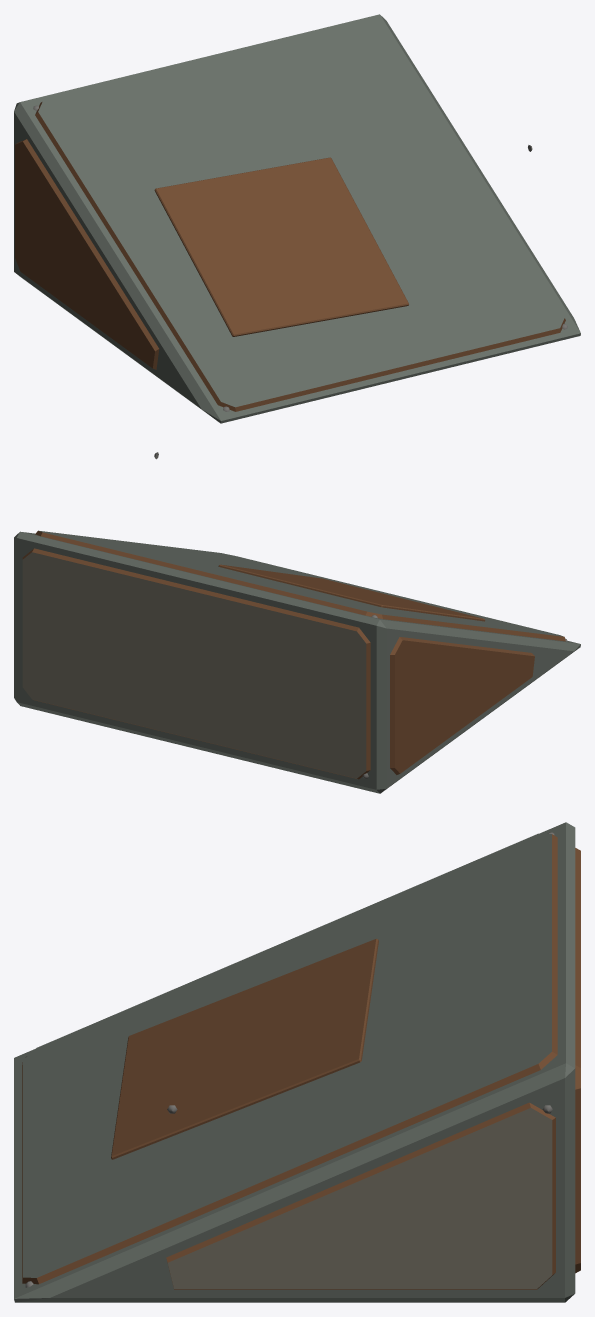
File: R4B_HalfWedge.fbx
The picture shows the model from 3 angles, top to bottom: view 1: azimuth 30°, elevation 25°; view 2: azimuth 150°, elevation 25°; view 3: azimuth 270°, elevation 25°; orthographic projection. The views are drawn at different scales.
Visible parts, largest first — view 1: R4B_HalfWedge; view 2: R4B_HalfWedge; view 3: R4B_HalfWedge.
Boxes of the visible parts, <box> form: R4B_HalfWedge: <box>14,14,580,423</box>; R4B_HalfWedge: <box>14,452,580,793</box>; R4B_HalfWedge: <box>14,822,580,1302</box>.
Size of the model in its own units: 0.52 by 0.2334 by 0.4898.
